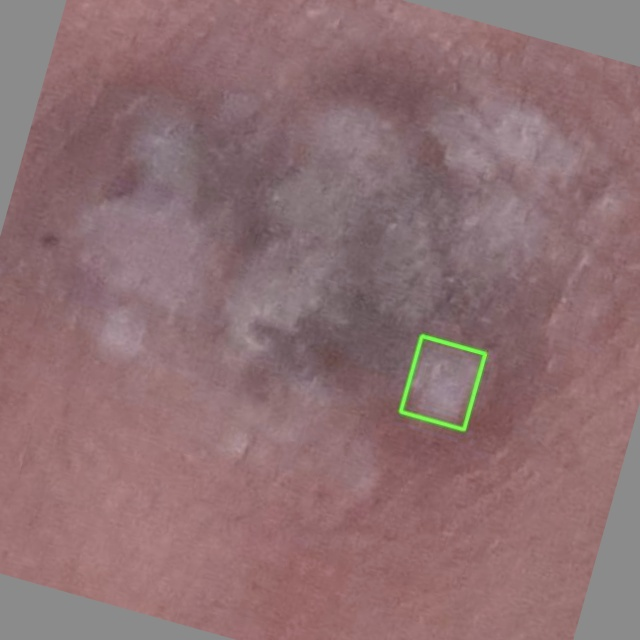Contact Dermatitis: (400, 336, 485, 429)
